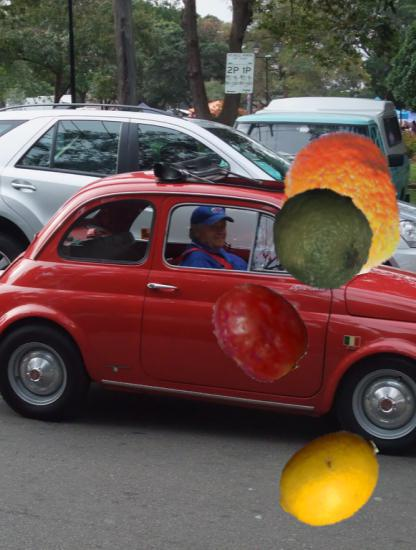Grape: (209, 278, 313, 382)
Lemon: (274, 422, 387, 535)
Limes: (270, 186, 374, 290)
Mandarine: (268, 132, 414, 278)
